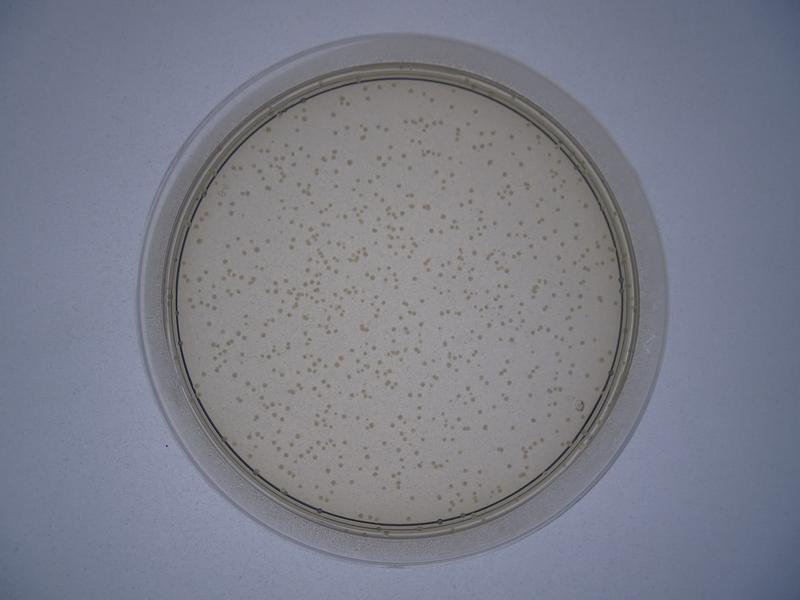colony: (467, 101, 484, 120), (462, 179, 479, 196), (481, 153, 499, 169), (552, 203, 569, 218), (414, 291, 429, 307), (395, 147, 412, 161), (431, 489, 448, 503), (189, 233, 207, 246), (505, 418, 519, 434), (577, 334, 589, 352), (402, 161, 417, 175), (422, 221, 437, 235), (392, 178, 406, 193), (226, 367, 241, 381), (501, 458, 516, 472), (547, 287, 562, 301), (289, 428, 305, 441), (251, 243, 265, 257), (387, 322, 401, 336), (330, 179, 343, 194), (285, 214, 298, 229), (342, 155, 358, 167), (437, 209, 451, 222), (537, 232, 551, 245), (468, 245, 481, 259), (526, 413, 540, 426), (523, 387, 537, 400), (487, 215, 502, 227), (329, 126, 342, 139), (407, 271, 420, 284), (465, 324, 478, 337), (257, 328, 269, 342), (572, 218, 586, 230), (472, 406, 487, 417), (502, 353, 513, 368), (344, 476, 359, 487), (203, 317, 216, 329), (416, 318, 429, 330), (224, 207, 236, 219), (329, 162, 339, 176), (452, 413, 466, 423), (506, 333, 517, 345), (393, 411, 405, 422), (361, 451, 373, 462), (530, 251, 541, 262), (286, 243, 298, 253), (406, 493, 418, 503), (380, 437, 389, 448)
